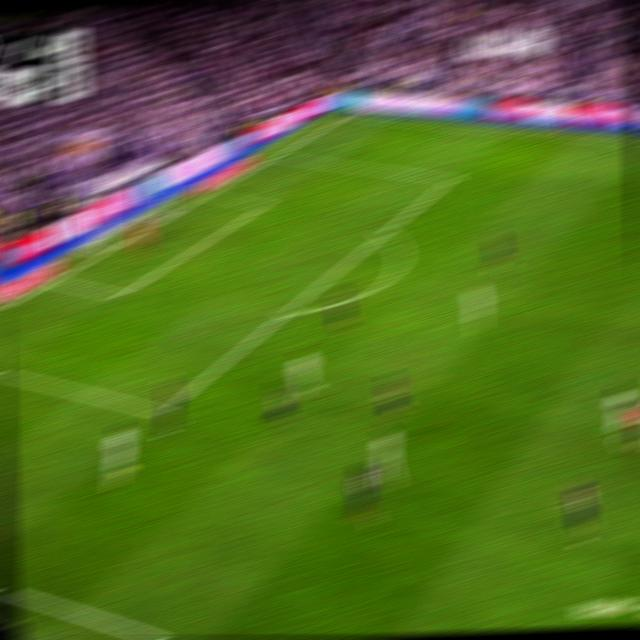bigarea_top_inner: (440, 170, 458, 186)
bigarea_top_outter: (270, 149, 284, 159)
bottom_arc_area_intersection: (276, 301, 296, 321)
corner: (338, 109, 354, 119)
smallarea_bottom_inner: (110, 285, 130, 303)
smallarea_bottom_outter: (46, 273, 64, 286)
smallarea_top_inner: (256, 199, 270, 209)
top_arc_area_intersection: (374, 224, 394, 240)
